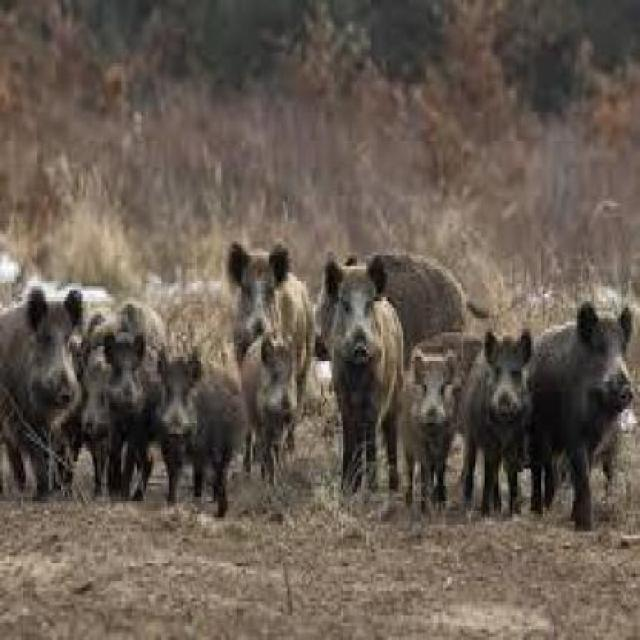wildboar: (451, 292, 640, 530), (300, 248, 498, 467), (219, 234, 316, 483), (318, 254, 412, 503), (143, 340, 260, 529), (76, 290, 170, 512), (0, 281, 92, 500), (453, 316, 544, 527), (394, 332, 468, 506), (237, 327, 303, 495)
